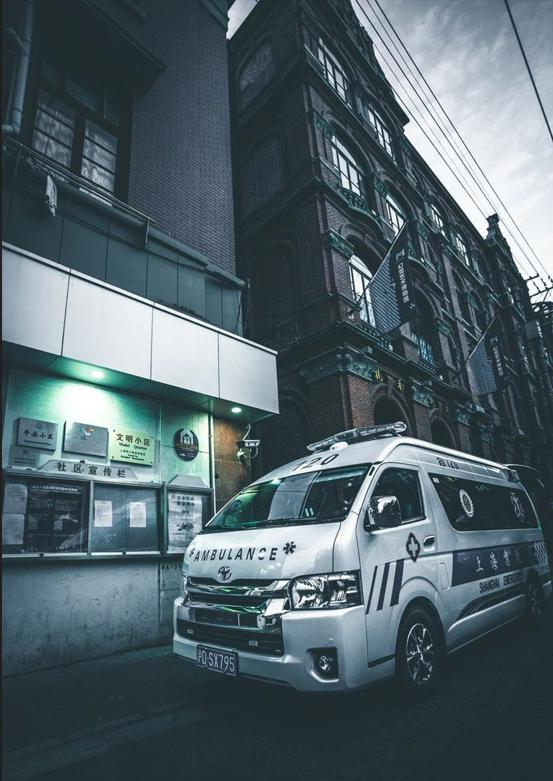ambulance_off: (171, 422, 553, 699)
